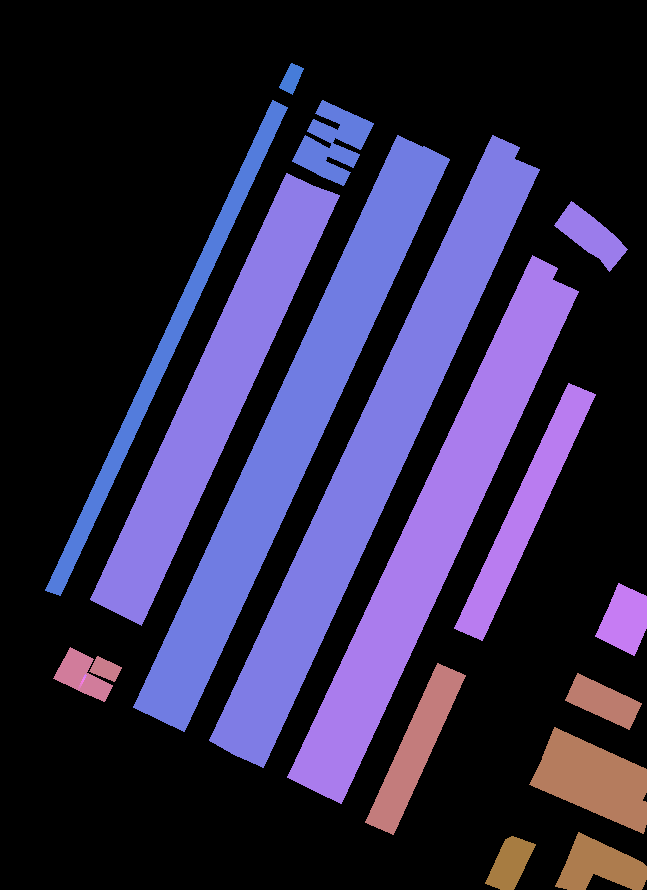parkingspot: (209, 135, 519, 756), (236, 158, 539, 767), (158, 146, 449, 731), (133, 135, 423, 719), (287, 255, 557, 791), (315, 279, 578, 803), (45, 100, 287, 595), (115, 185, 339, 625), (90, 173, 312, 612), (454, 383, 595, 640), (365, 663, 465, 834), (529, 757, 647, 833), (542, 727, 647, 801), (554, 201, 627, 271), (566, 832, 647, 890), (565, 673, 641, 729), (485, 836, 535, 890), (595, 609, 646, 655), (607, 583, 647, 628), (53, 647, 93, 689), (334, 111, 373, 149), (292, 135, 330, 174), (555, 860, 593, 889), (78, 673, 112, 701), (317, 160, 350, 185), (89, 656, 121, 681), (326, 143, 359, 167), (307, 119, 338, 143), (315, 100, 346, 124), (279, 63, 303, 94)
